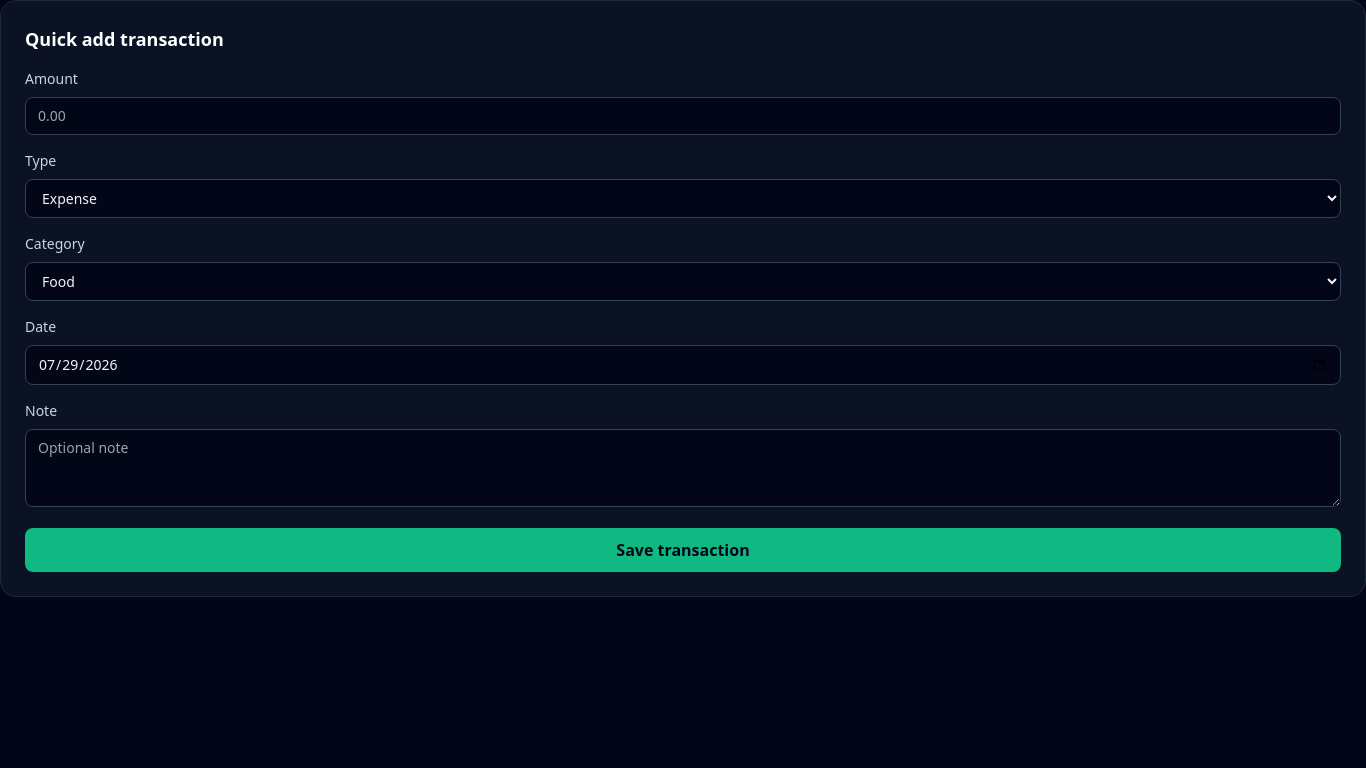
Scenario: TransactionForm › displays a success message and resets the form after a successful response
Type "10" into the field labelled "Amount" at [683, 116], box [25, 97, 1341, 135]
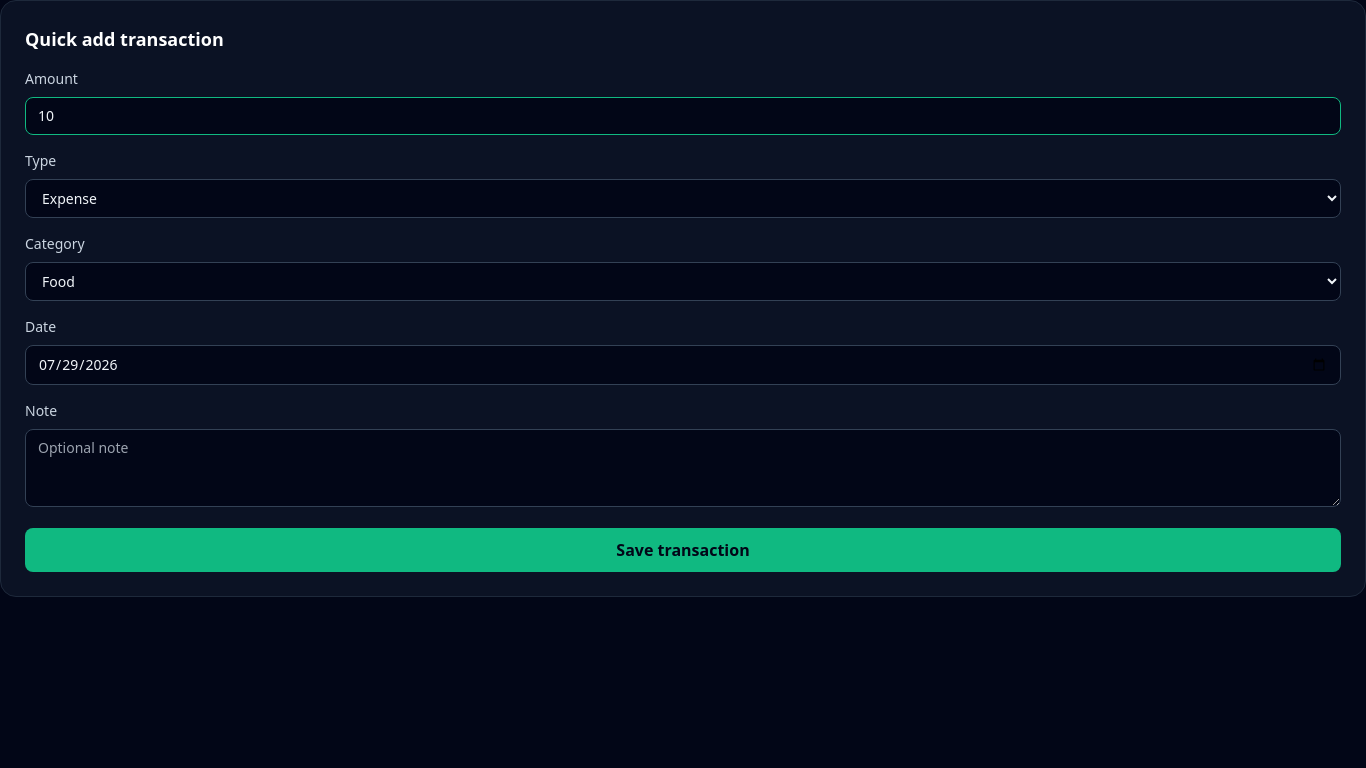
Type "Coffee" into the text box labelled "Note" at [683, 468], box [25, 429, 1341, 507]
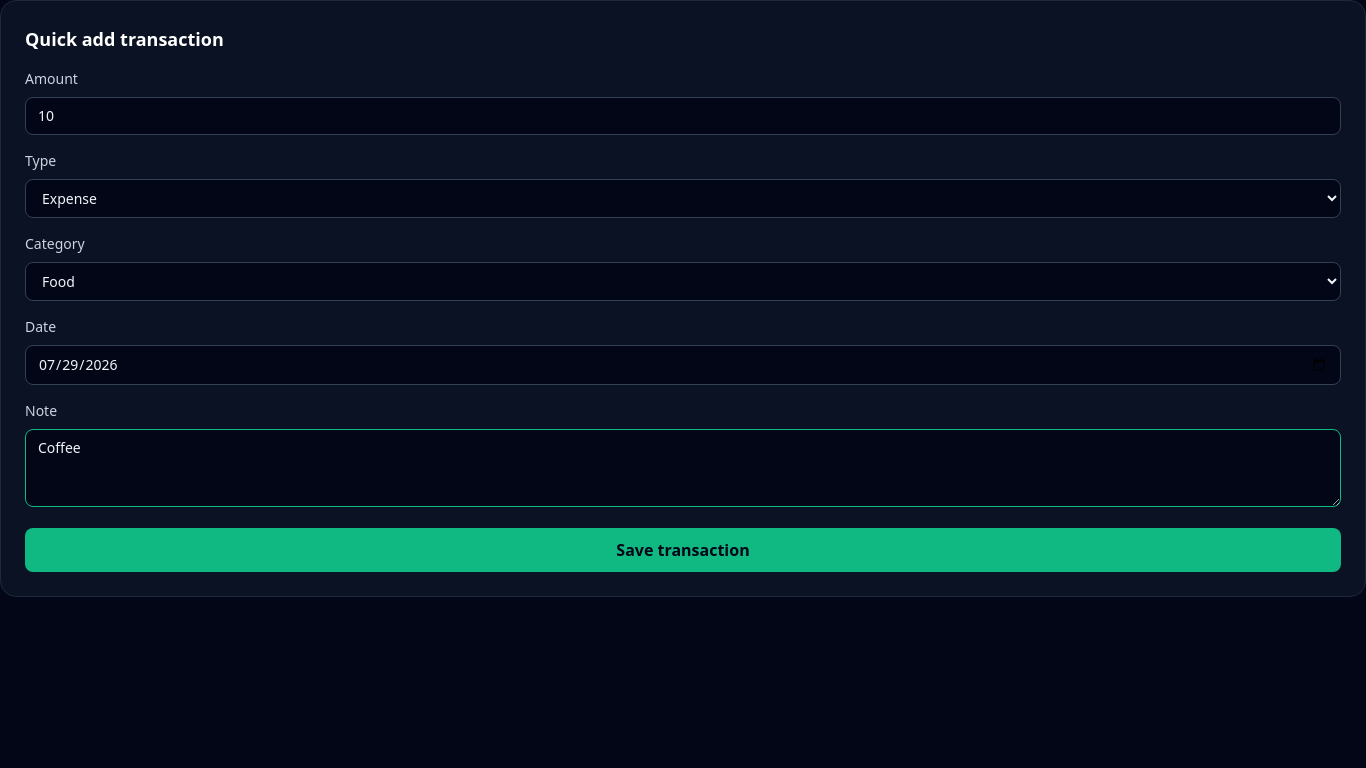
Click the button "Save transaction" at [683, 550], box [25, 528, 1341, 572]
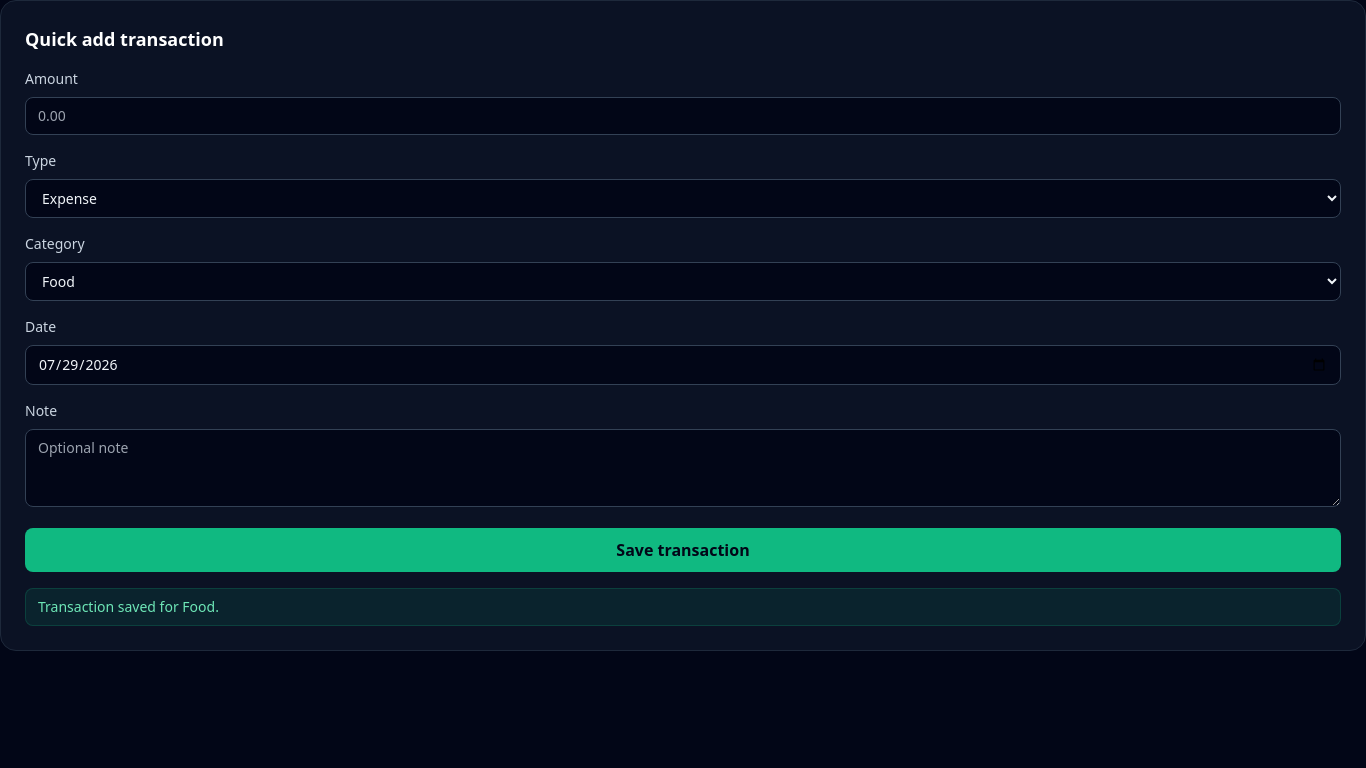
Expected: the text "Transaction saved for Food." is shown, [25, 588, 1341, 626]
Expected: the text box labelled "Note" is empty, [25, 429, 1341, 507]
